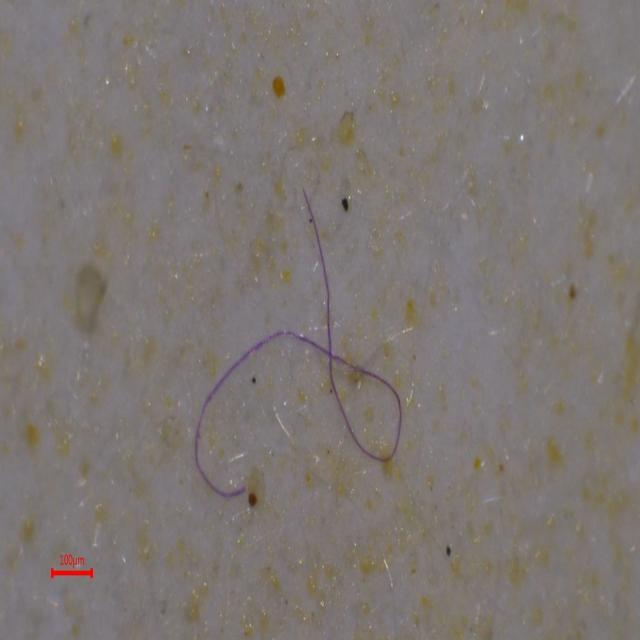fibers: (109, 187, 423, 536)
